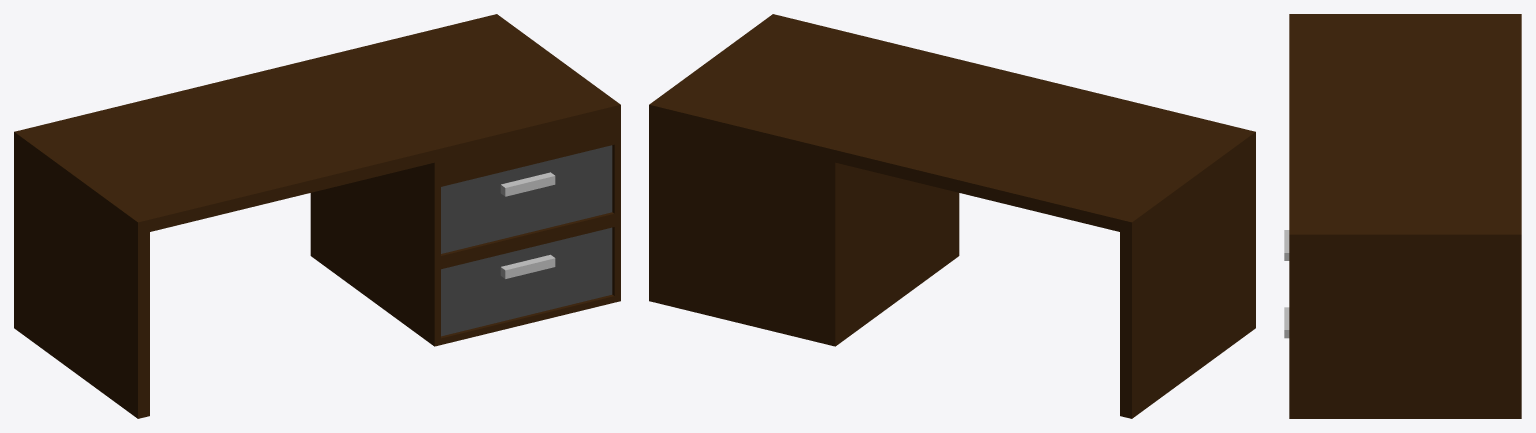
Rendered from biurko.fbx.
3 views of the same model, side by side, from view 1: azimuth 30°, elevation 25°; view 2: azimuth 150°, elevation 25°; view 3: azimuth 270°, elevation 25° (orthographic). The views are drawn at different scales.
Parts seen in each view (by area): view 1: Cube; view 2: Cube; view 3: Cube.
Boxes of the visible parts, <box> form: Cube: <box>14,14,620,418</box>; Cube: <box>649,14,1255,418</box>; Cube: <box>1284,14,1521,418</box>.
Size of the model in its own units: 180 by 70 by 81.77.
